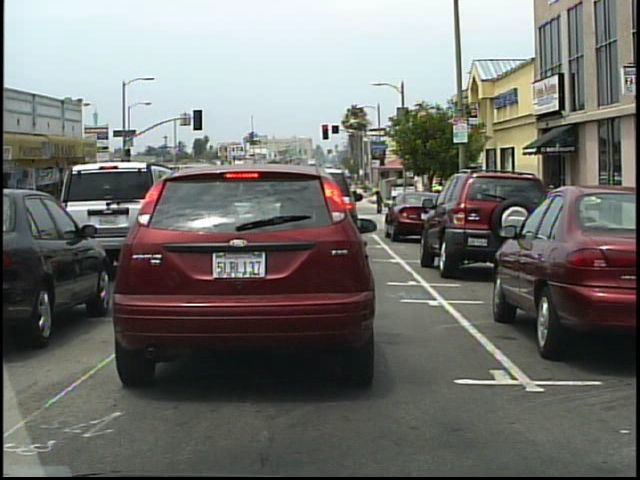person: (374, 186, 385, 218)
